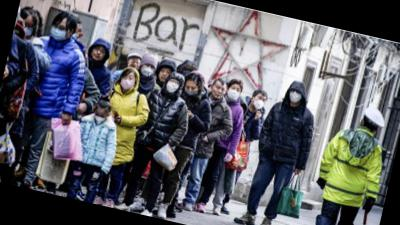with_mask: (49, 18, 72, 42), (118, 72, 137, 93), (163, 77, 183, 95), (20, 17, 36, 39), (250, 92, 267, 110), (140, 61, 157, 78), (287, 87, 304, 104), (92, 110, 109, 126), (226, 84, 242, 101), (184, 82, 199, 97)
without_mask: (90, 43, 109, 63), (157, 66, 174, 84), (211, 82, 226, 101), (128, 57, 141, 70)
